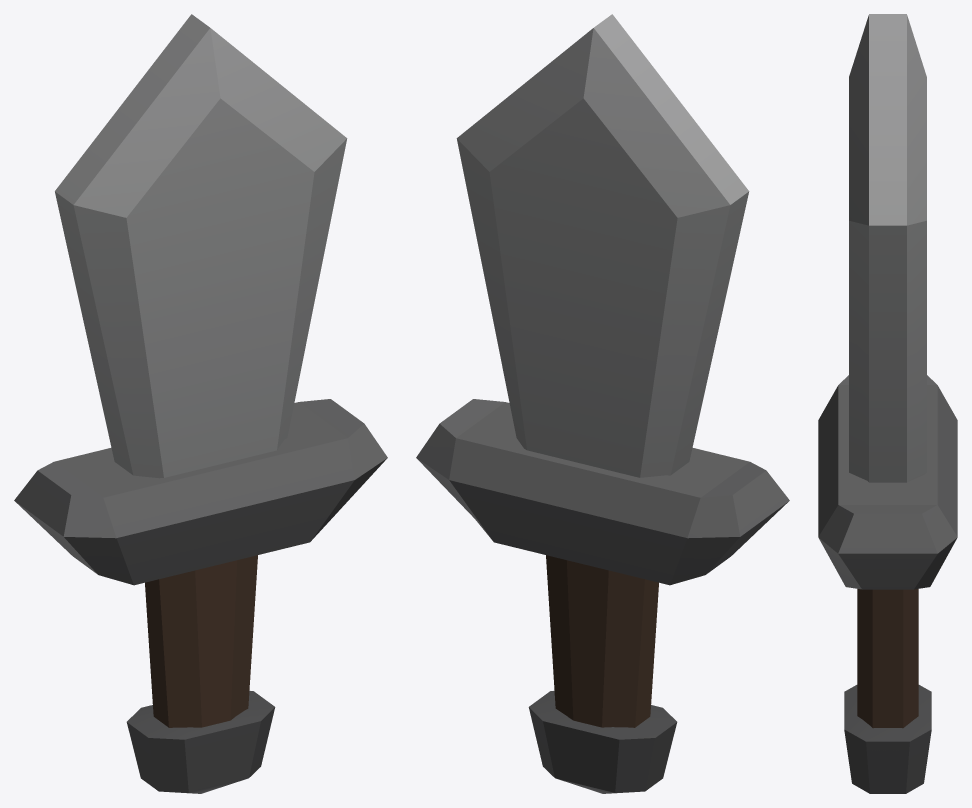
File: Sword_RHand_6.fbx
3 views of the same model, side by side, from view 1: azimuth 30°, elevation 25°; view 2: azimuth 150°, elevation 25°; view 3: azimuth 270°, elevation 25° (orthographic).
Parts seen in each view (by area): view 1: Sword_RHand_6; view 2: Sword_RHand_6; view 3: Sword_RHand_6.
Part boxes in pixels (bbox=[...]): Sword_RHand_6: bbox=[14, 14, 387, 793]; Sword_RHand_6: bbox=[416, 14, 789, 793]; Sword_RHand_6: bbox=[818, 14, 957, 793].
Bounding box in the file's own units: 29.09 × 66.27 × 10.79.
